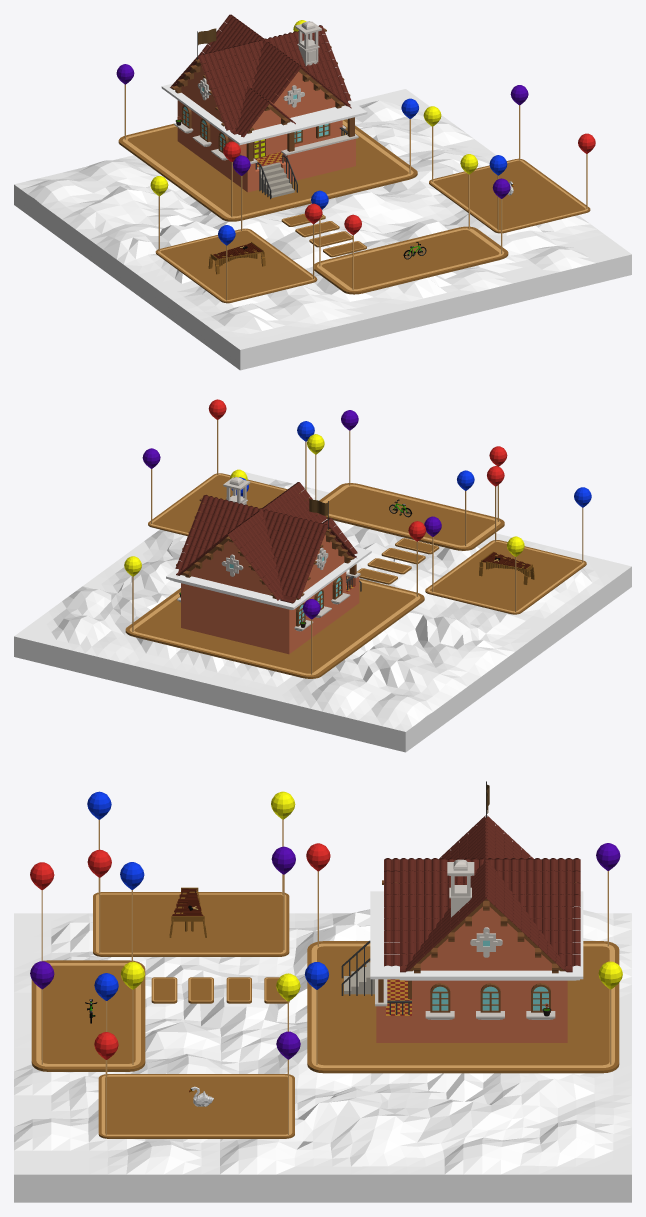
3 views of the same model, one above another, from view 1: azimuth 30°, elevation 25°; view 2: azimuth 150°, elevation 25°; view 3: azimuth 270°, elevation 25° (orthographic). The views are drawn at different scales.
Visible parts, largest first — view 1: Cube.013, Cube.1141, OBJRANDOM_MARIMBA; view 2: Cube.013, Cube.1141, OBJRANDOM_MARIMBA; view 3: Cube.013, Cube.1141, OBJRANDOM_MARIMBA.
Part boxes in pixels (<box>): Cube.013: <box>14,20,631,370</box>; Cube.1141: <box>161,14,367,199</box>; OBJRANDOM_MARIMBA: <box>208,241,265,274</box>; Cube.013: <box>14,399,631,752</box>; Cube.1141: <box>166,477,371,654</box>; OBJRANDOM_MARIMBA: <box>479,551,534,584</box>; Cube.013: <box>14,791,631,1202</box>; Cube.1141: <box>341,781,583,1042</box>; OBJRANDOM_MARIMBA: <box>169,887,206,937</box>.
Bounding box in the file's own units: 4000 × 1792 × 4000.
Materials: 39 (2 with a texture image).
